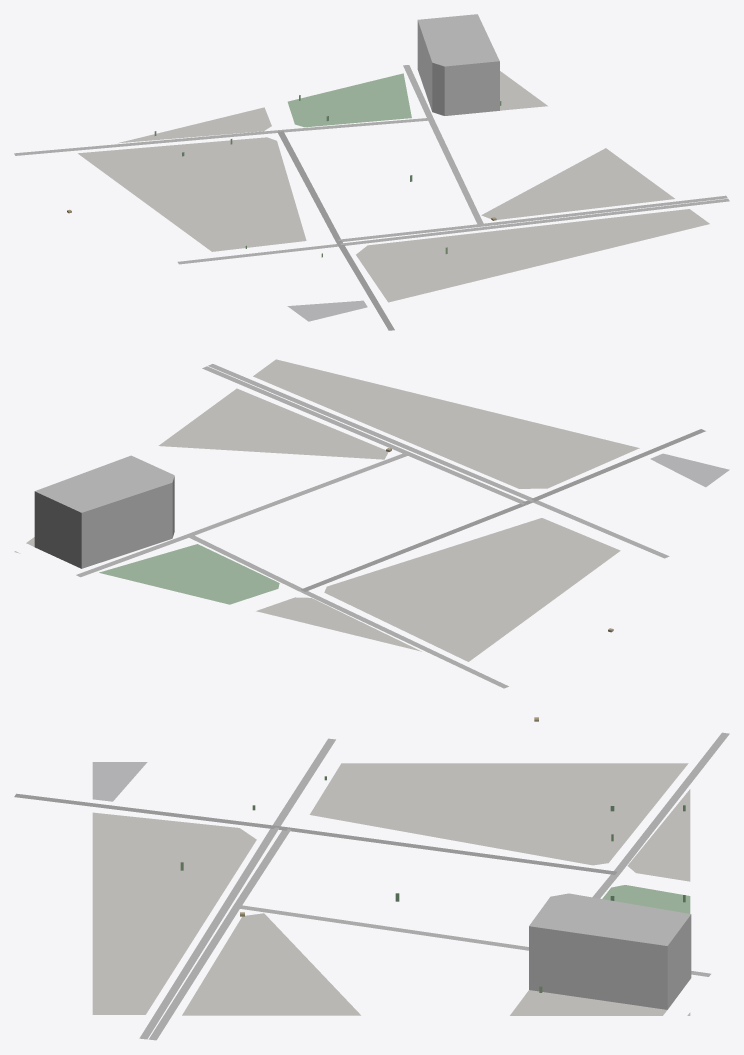
3 renders of one model, top to bottom at view 1: azimuth 30°, elevation 25°; view 2: azimuth 150°, elevation 25°; view 3: azimuth 270°, elevation 25°, orthographic. The views are drawn at different scales.
Size of the model in its own units: 636 by 59.2 by 599.
